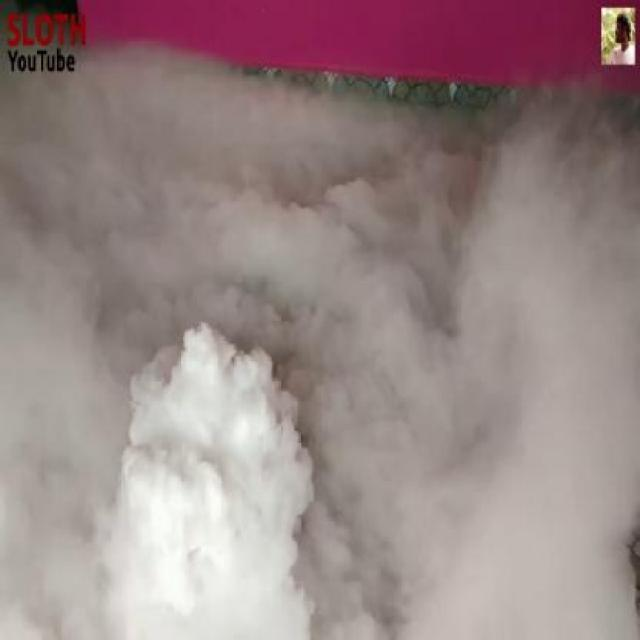smoke: (70, 162, 564, 616)
